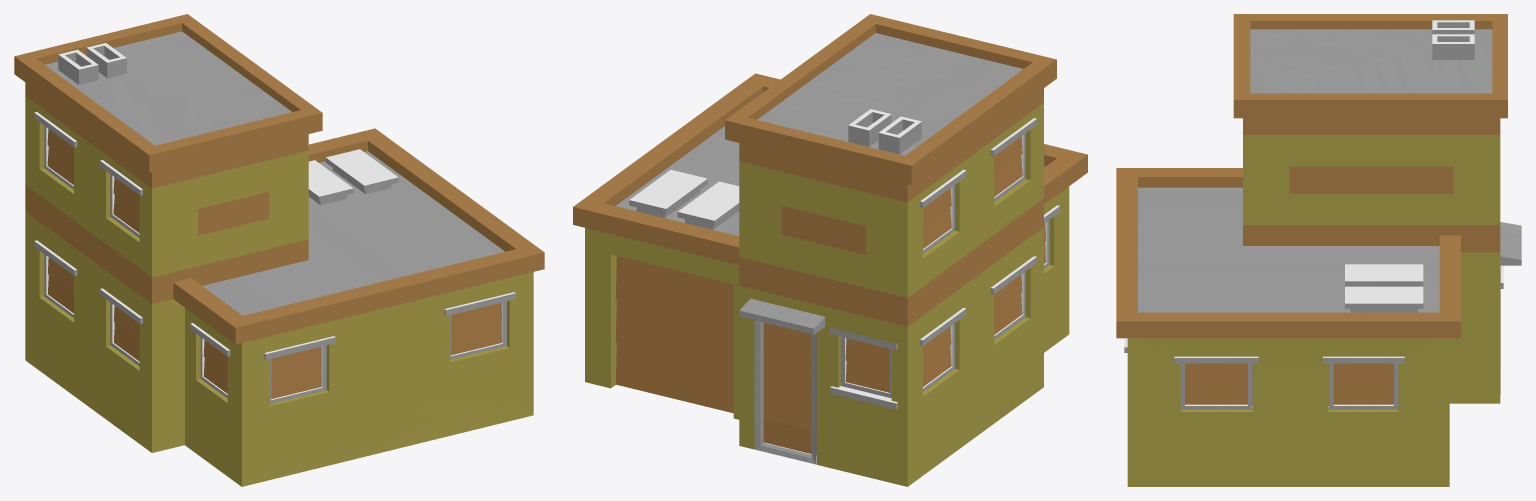
File: purpose.005.glb
The picture shows the model from 3 angles, left to right: view 1: azimuth 30°, elevation 25°; view 2: azimuth 150°, elevation 25°; view 3: azimuth 270°, elevation 25°; orthographic projection. The views are drawn at different scales.
Parts seen in each view (by area): view 1: purpose.005(Clone); view 2: purpose.005(Clone); view 3: purpose.005(Clone).
Boxes of the visible parts, box(x1,y1,x2,y2) form: purpose.005(Clone): box(14, 14, 544, 486); purpose.005(Clone): box(573, 14, 1087, 486); purpose.005(Clone): box(1116, 14, 1521, 486).
Bounding box in the file's own units: 7.41 × 6.52 × 7.57.
1 material, 1 textured.
